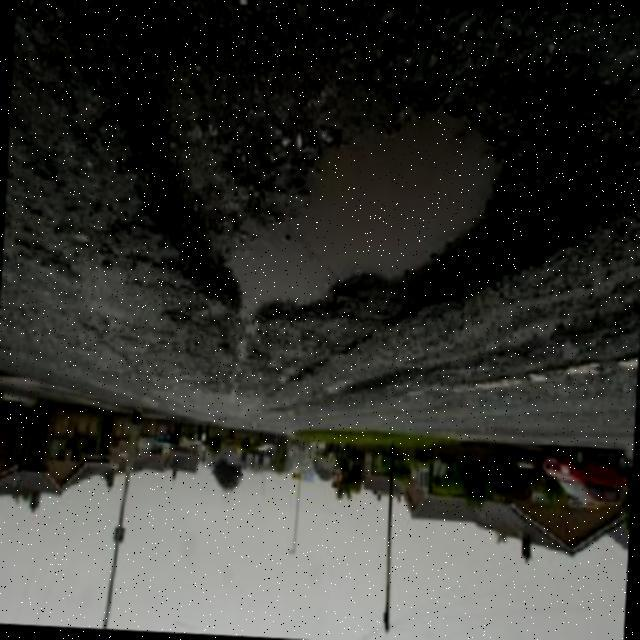Pothole: (126, 0, 640, 327)
